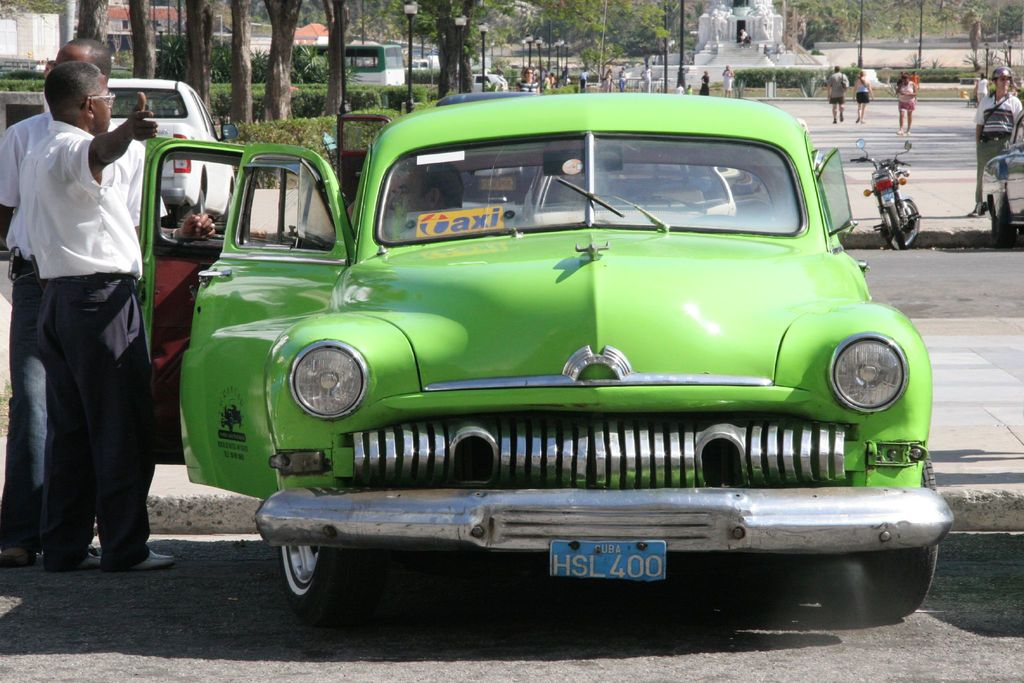Car: (125, 80, 952, 650)
